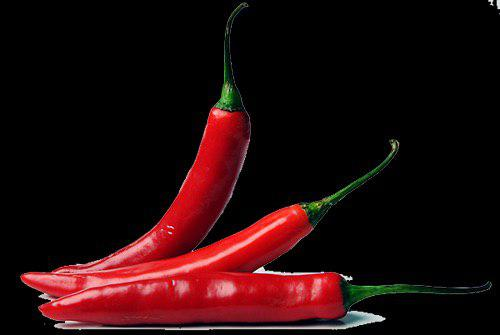lada merah: (58, 98, 262, 269), (18, 200, 322, 306), (43, 254, 369, 335)
